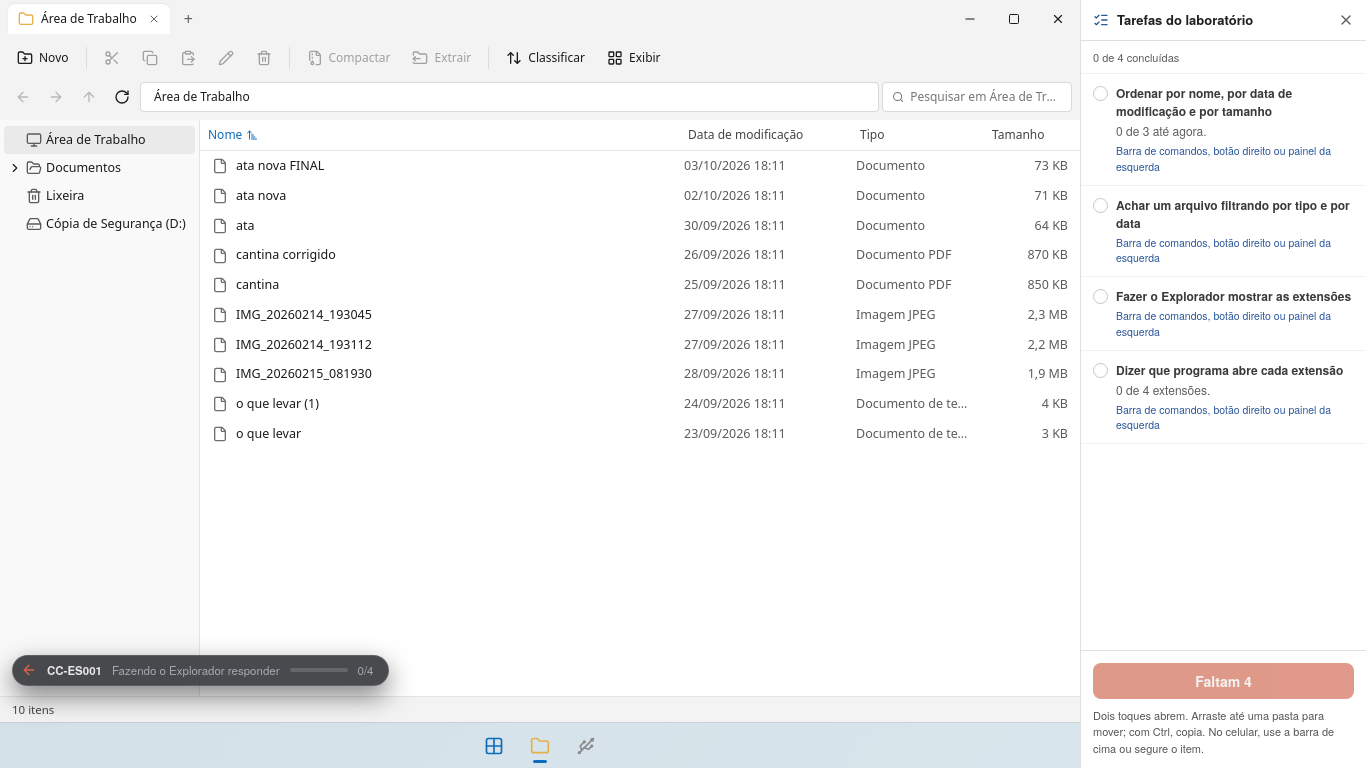
Test: cada lição da CC-ES001 pode ser vencida clicando › m4 — e escolher o programa errado não conta, e mostra o lixo
Step 1. Right-click the element with class "win-linha" that starts with "IMG_20260214_193045" → point(304, 314), box [204, 301, 1076, 330]
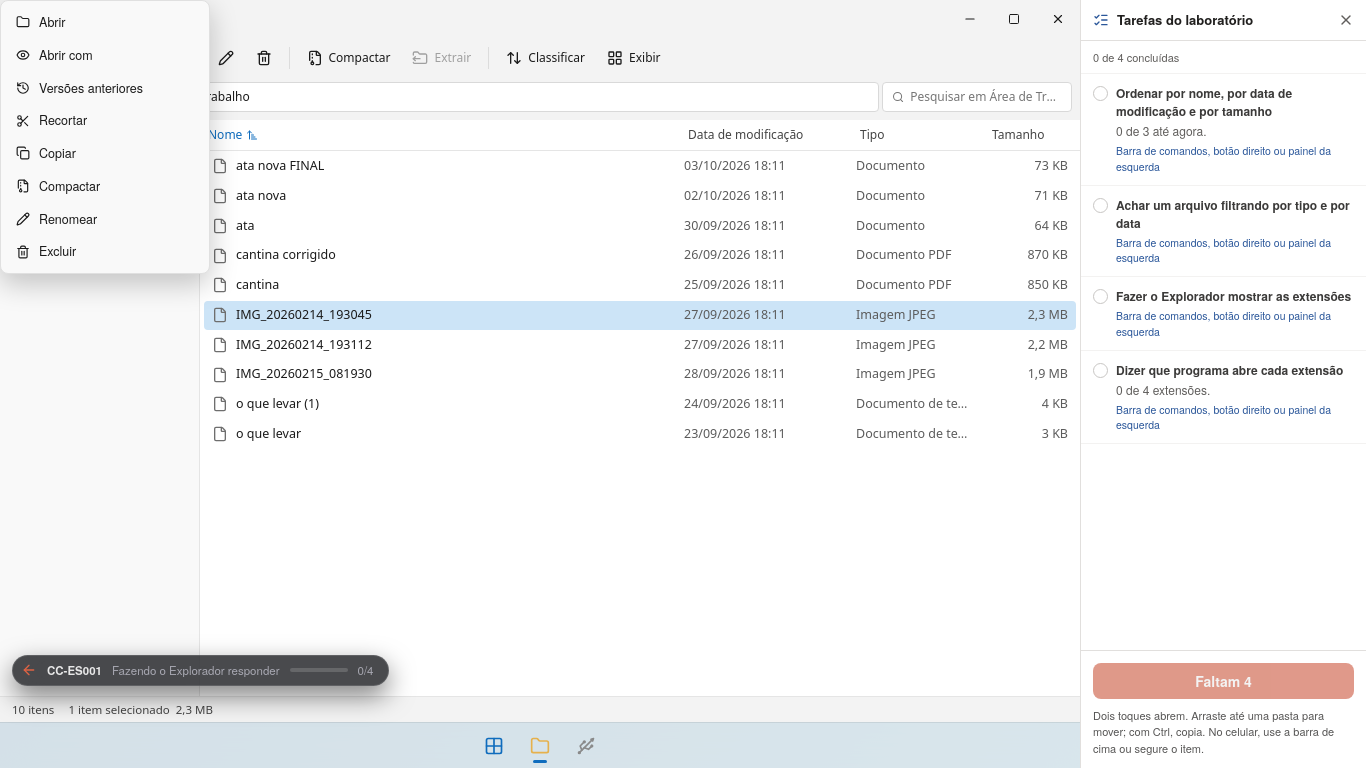
Expected: the button "Abrir com" is shown
Step 2. Click the button "Abrir com" → point(105, 55), box [6, 39, 204, 72]
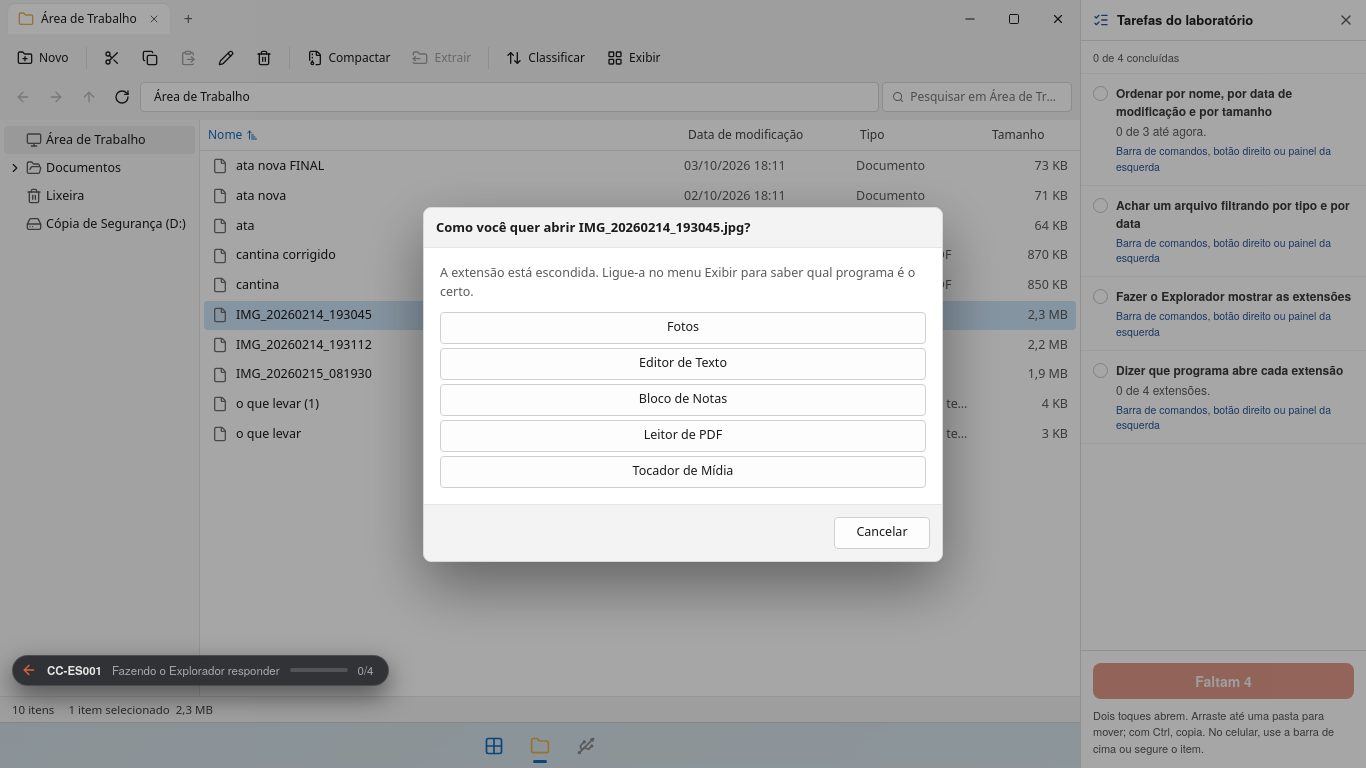
Expected: the button "Leitor de PDF" is shown
Step 3. Click the button "Leitor de PDF" → point(683, 436), box [440, 420, 926, 452]
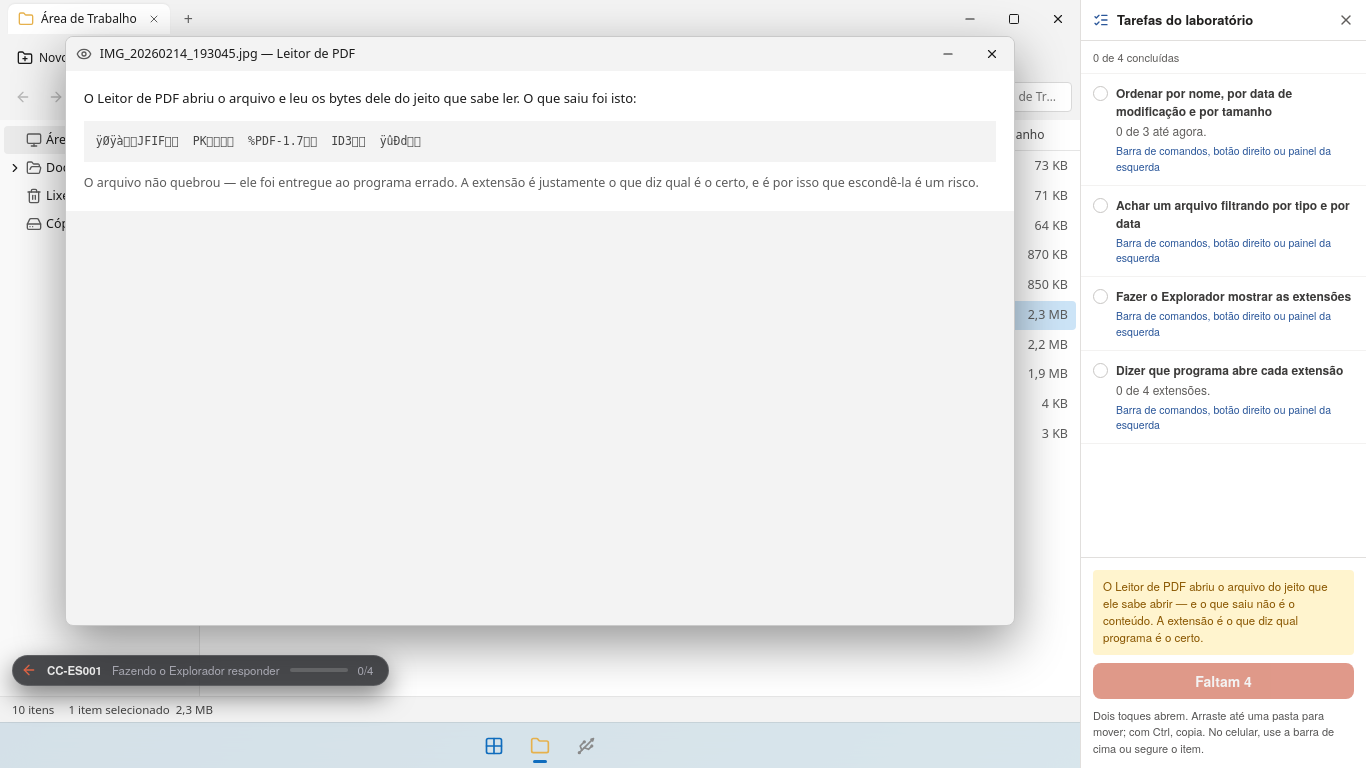
Expected: the text "não é o conteúdo" is shown, [1103, 578, 1328, 645]
